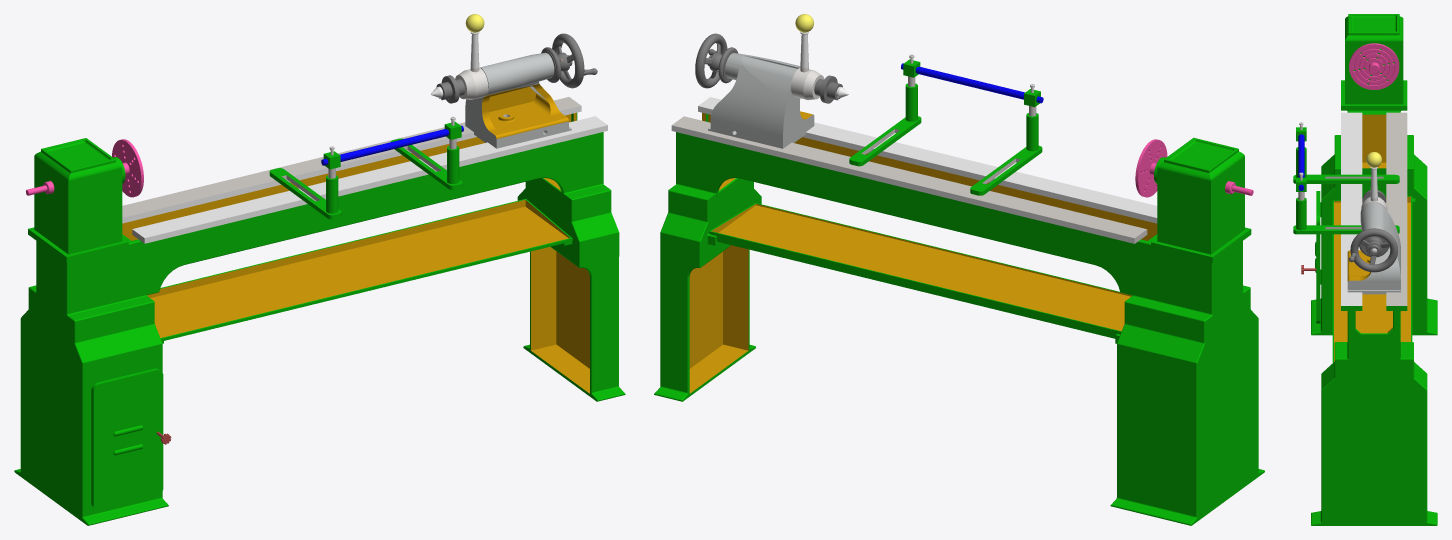
The model's file is assembly test.gltf.
3 renders of one model, left to right at view 1: azimuth 30°, elevation 25°; view 2: azimuth 150°, elevation 25°; view 3: azimuth 270°, elevation 25°, orthographic. The views are drawn at different scales.
Parts seen in each view (by area): view 1: 3DGeom-2, 3DGeom-7, 3DGeom-10, 3DGeom-1, 3DGeom-9, 3DGeom-4, 3DGeom-3, Body_1, 3DGeom-6; view 2: 3DGeom-2, 3DGeom-7, 3DGeom-10, 3DGeom-9, 3DGeom-1, 3DGeom-4, 3DGeom-3, Body_1, 3DGeom-6; view 3: 3DGeom-2, 3DGeom-7, 3DGeom-1, 3DGeom-10, 3DGeom-9, 3DGeom-3, 3DGeom-4, Body_1, 3DGeom-6, 3DGeom-669.
Part boxes in pixels (left/top/right/bottom): 3DGeom-2: left=14, top=113, right=625, bottom=525; 3DGeom-7: left=122, top=84, right=589, bottom=393; 3DGeom-10: left=122, top=32, right=607, bottom=243; 3DGeom-1: left=122, top=97, right=581, bottom=243; 3DGeom-9: left=465, top=52, right=571, bottom=148; 3DGeom-4: left=436, top=33, right=597, bottom=103; 3DGeom-3: left=26, top=139, right=143, bottom=197; Body_1: left=321, top=125, right=463, bottom=165; 3DGeom-6: left=329, top=67, right=488, bottom=155; 3DGeom-2: left=654, top=59, right=1264, bottom=525; 3DGeom-7: left=689, top=111, right=1157, bottom=393; 3DGeom-10: left=671, top=31, right=1157, bottom=243; 3DGeom-9: left=708, top=53, right=814, bottom=148; 3DGeom-1: left=672, top=76, right=1147, bottom=243; 3DGeom-4: left=695, top=33, right=842, bottom=103; 3DGeom-3: left=1135, top=139, right=1253, bottom=197; Body_1: left=901, top=63, right=1043, bottom=103; 3DGeom-6: left=791, top=54, right=1034, bottom=100; 3DGeom-2: left=1293, top=14, right=1437, bottom=525; 3DGeom-7: left=1334, top=114, right=1410, bottom=361; 3DGeom-1: left=1298, top=112, right=1407, bottom=305; 3DGeom-10: left=1341, top=112, right=1377, bottom=305; 3DGeom-9: left=1347, top=201, right=1400, bottom=294; 3DGeom-3: left=1349, top=43, right=1399, bottom=89; 3DGeom-4: left=1348, top=190, right=1397, bottom=272; Body_1: left=1298, top=134, right=1304, bottom=190; 3DGeom-6: left=1299, top=122, right=1387, bottom=210; 3DGeom-669: left=1366, top=152, right=1381, bottom=167.
Bounding box in the file's own units: 2.09 × 1.36 × 0.5436.
